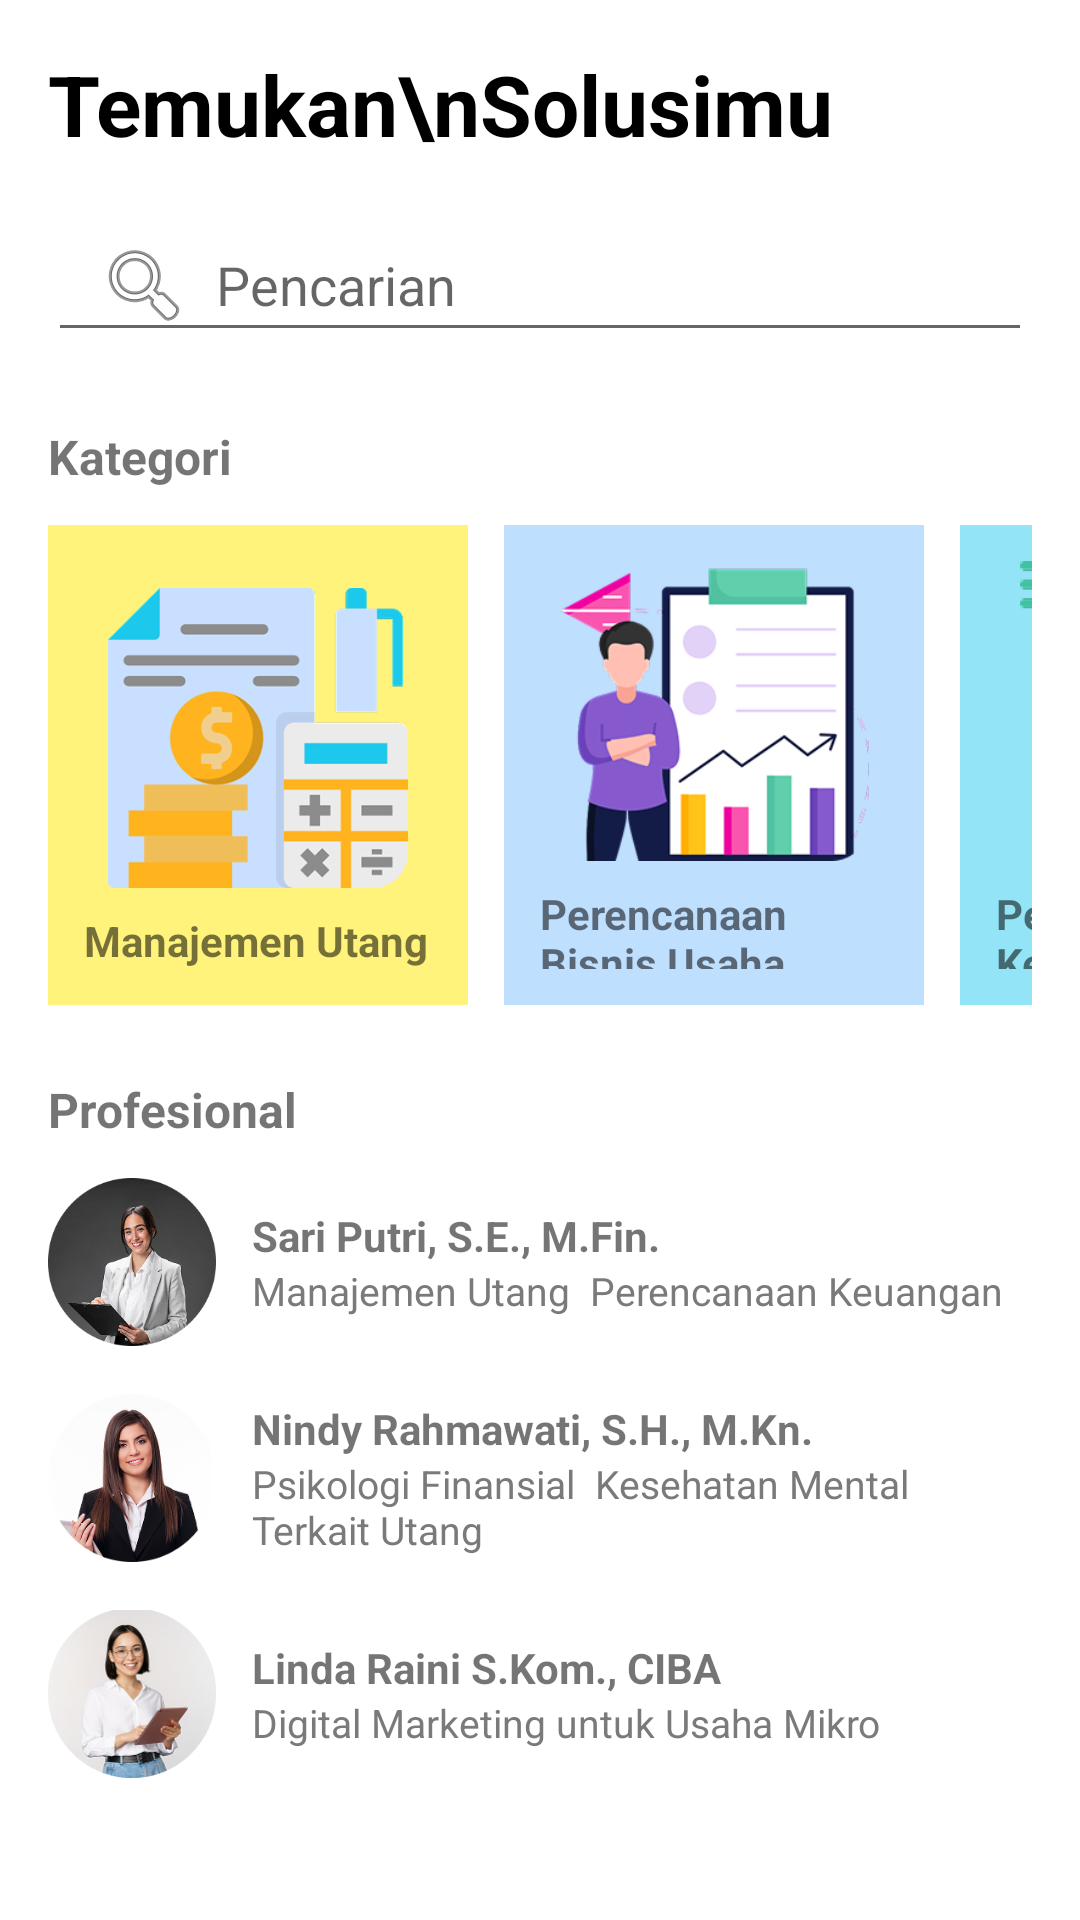

Icons on this 1080 × 1920 Android screen, each with its box as (x1, y1, x2, y2):
prof dua: (60, 1409, 198, 1562)
prof satu: (48, 1178, 216, 1346)
prof tiga: (69, 1610, 213, 1778)
